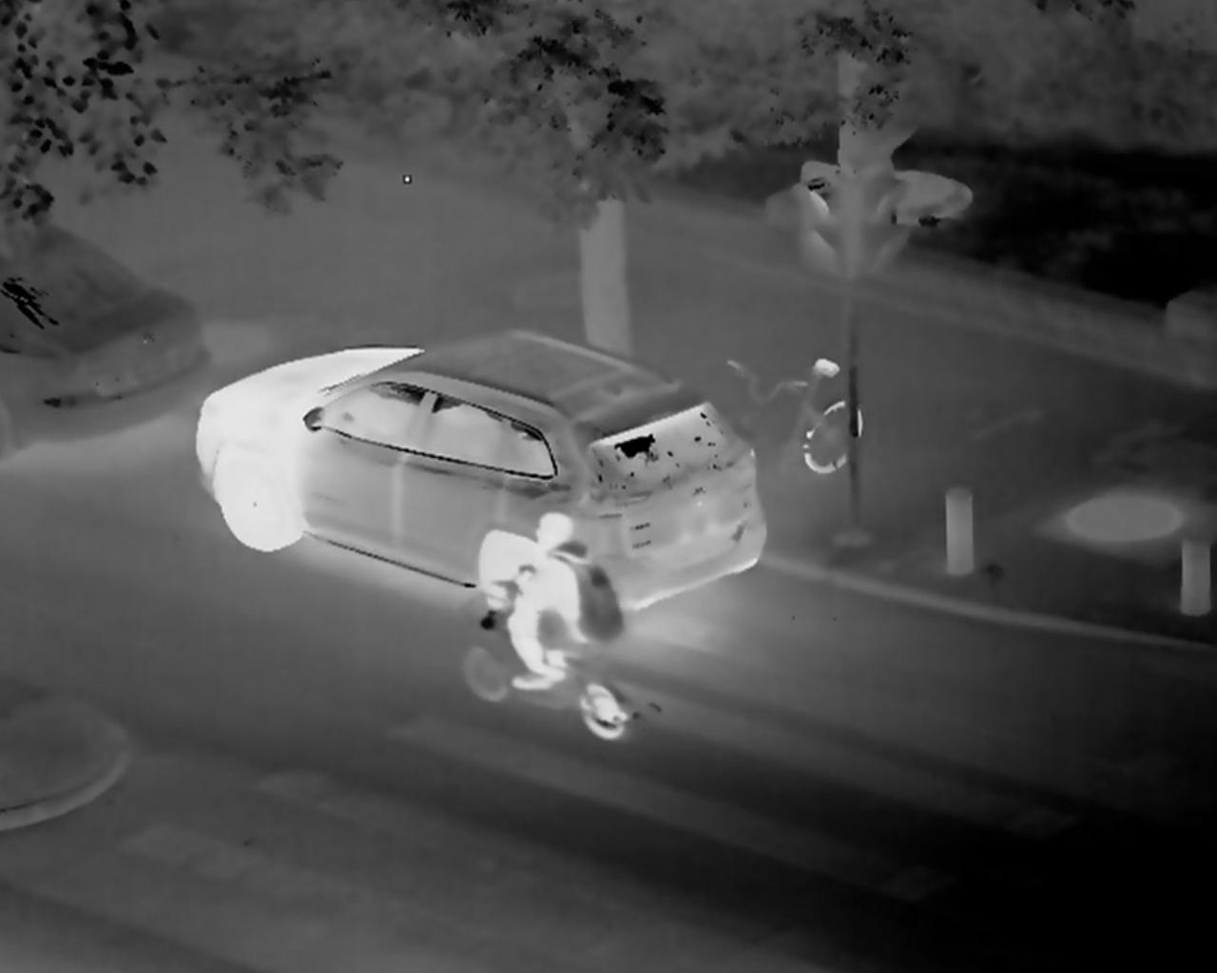person: (487, 511, 612, 701)
